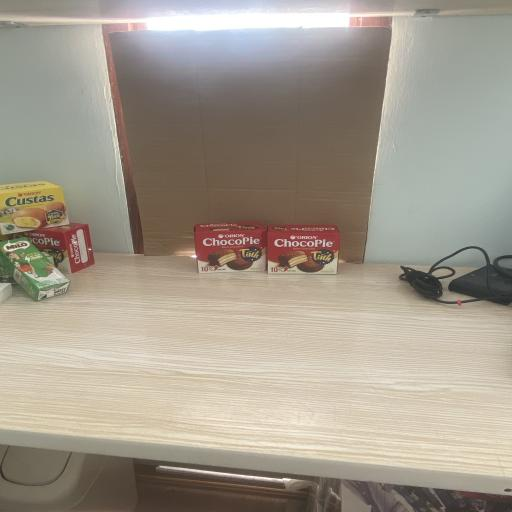chocopie: (10, 222, 94, 274), (193, 221, 267, 274), (267, 224, 341, 275)
custas: (0, 180, 69, 236)
milo: (0, 237, 71, 302)
